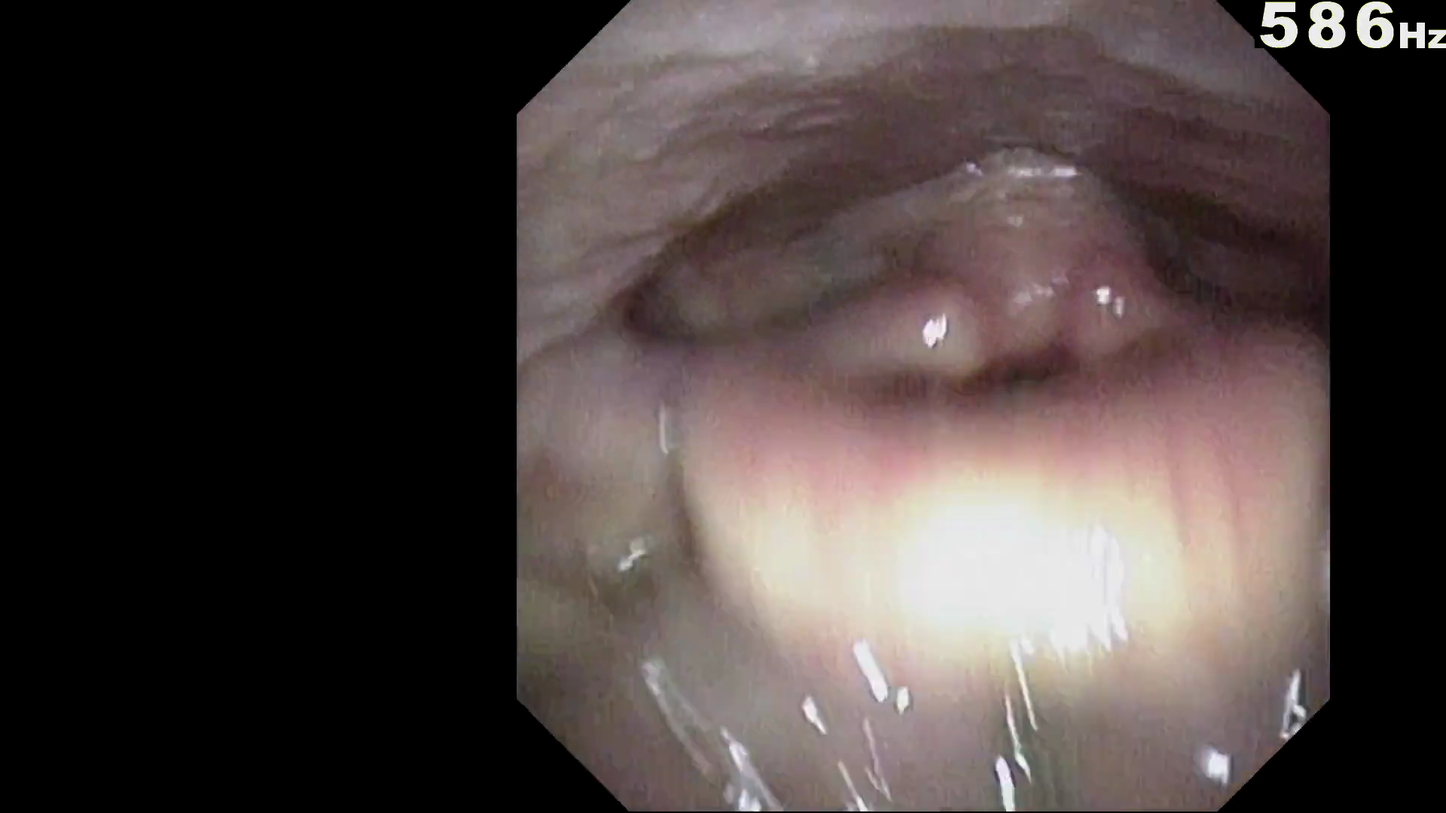epiglottis: (753, 499, 1281, 692)
trachea: (971, 360, 1067, 490)
